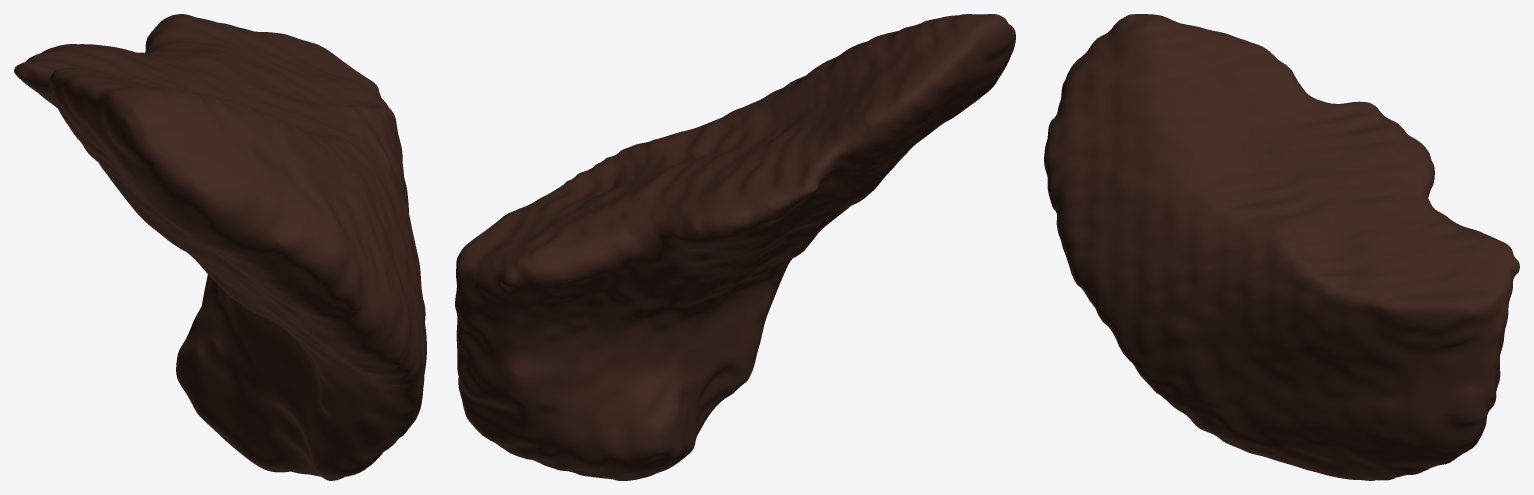
The model's file is left gluteus medius.obj.
The picture shows the model from 3 angles, left to right: view 1: azimuth 30°, elevation 25°; view 2: azimuth 150°, elevation 25°; view 3: azimuth 270°, elevation 25°; orthographic projection. The views are drawn at different scales.
Visible parts, largest first — view 1: grp1; view 2: grp1; view 3: grp1.
Part boxes in pixels (left/top/right/bottom): grp1: left=14, top=14, right=426, bottom=480; grp1: left=455, top=14, right=1015, bottom=480; grp1: left=1044, top=14, right=1519, bottom=480.
Size of the model in its own units: 102 by 117 by 138.
